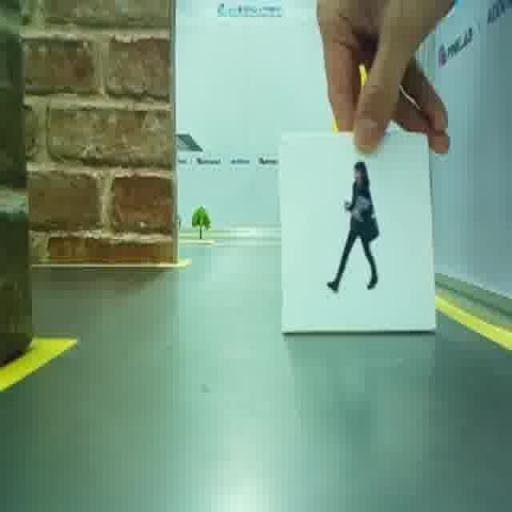human: (326, 161, 378, 292)
